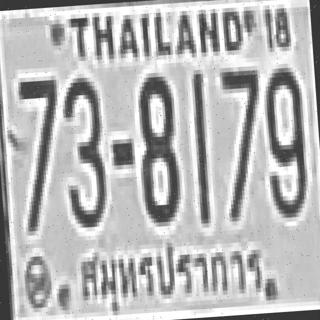N01: (188, 70, 211, 224)
N03: (60, 77, 109, 228)
N07: (219, 66, 267, 222), (16, 75, 64, 231)
N08: (134, 73, 182, 227)
N09: (260, 62, 311, 222)
P57: (70, 232, 268, 318)
